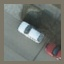car: (17, 21, 45, 44)
